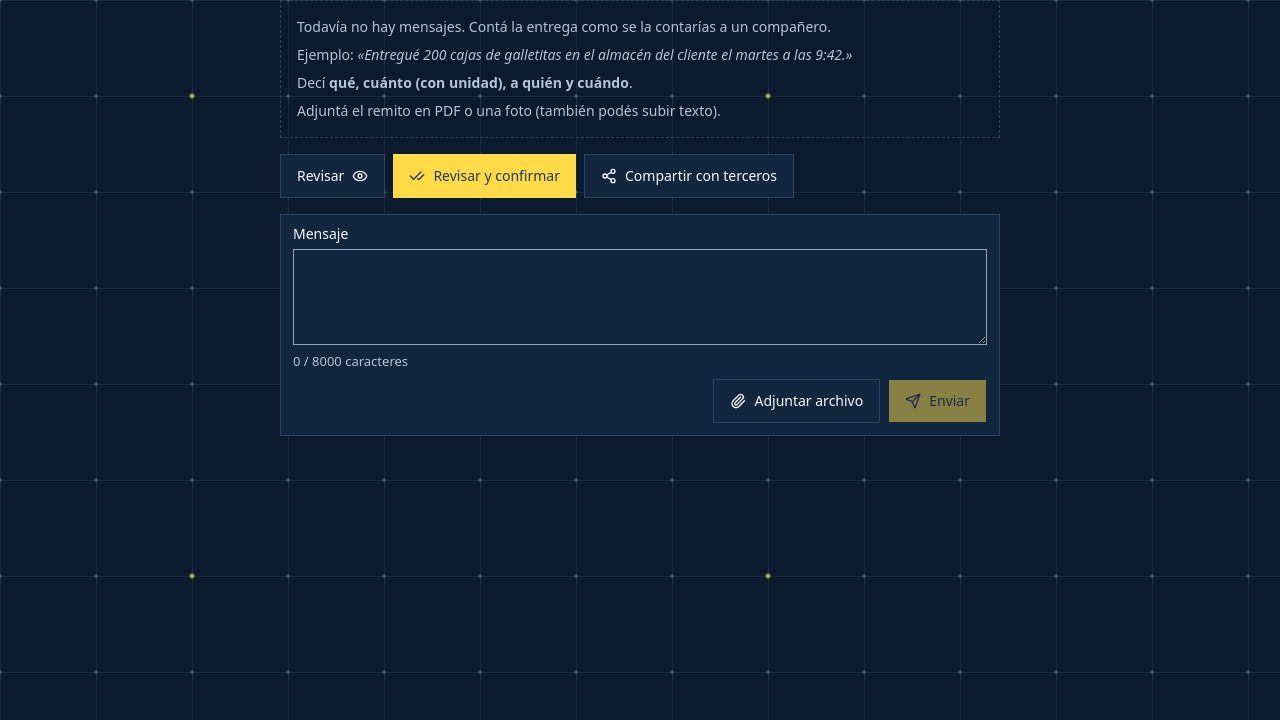
Scenario: ChatContainer (MVP-054; red simulada, no es integración real) › error de proveedor: aviso técnico y reintento con el mismo clientMessageId
Type "Entregué 3 cajas" into the text box labelled "Mensaje" at (640, 297), box [293, 249, 987, 345]
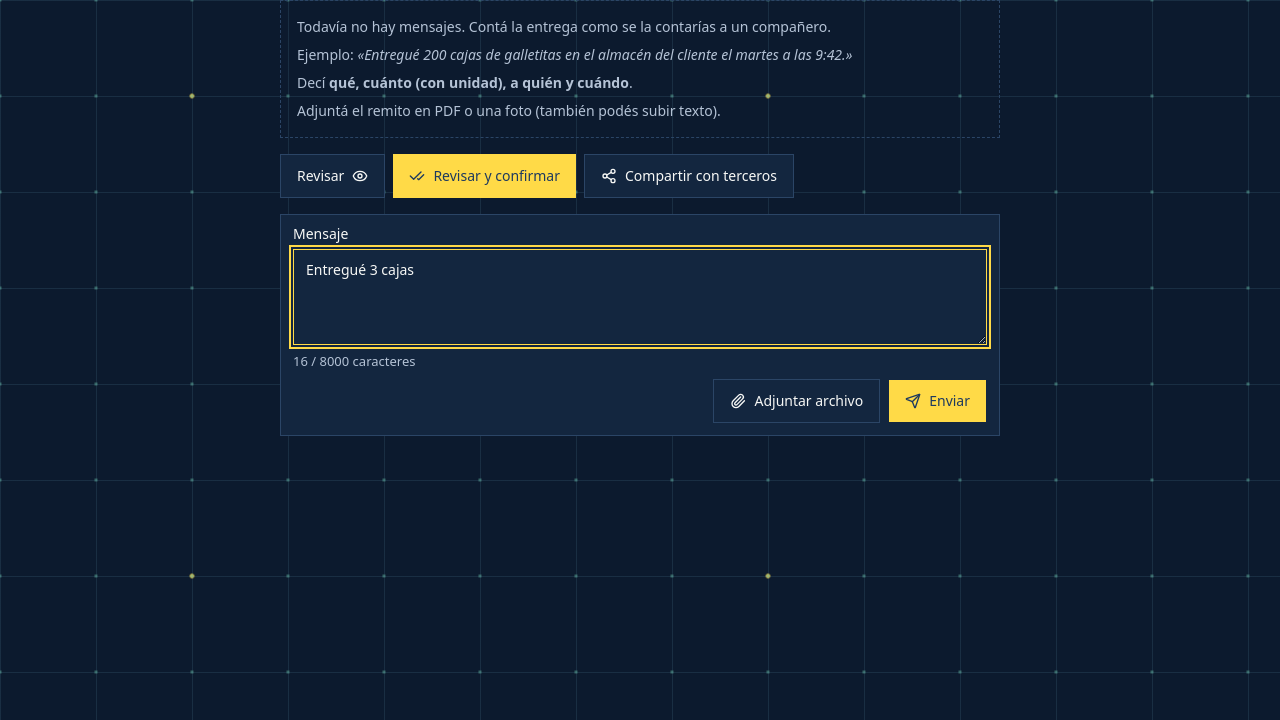
Click the button "Enviar" at (938, 401), box [888, 379, 987, 423]
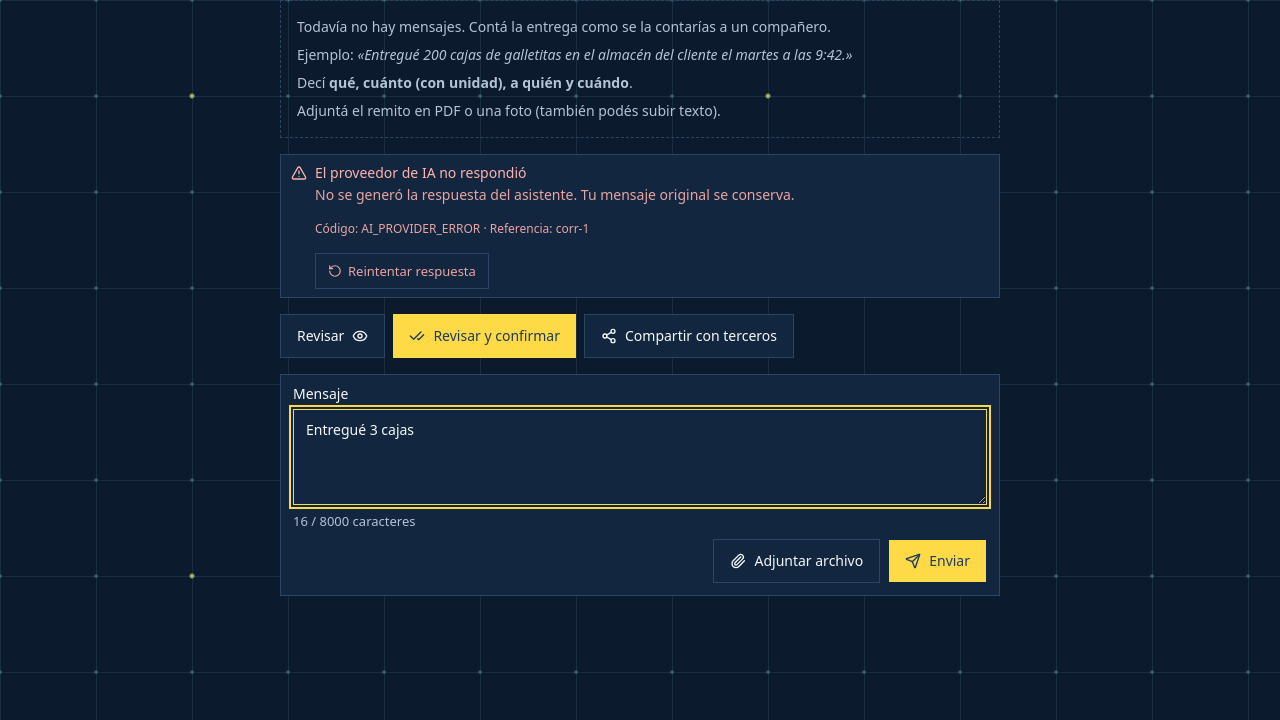
Click the button "Reintentar respuesta" at (402, 271), box [315, 253, 489, 289]
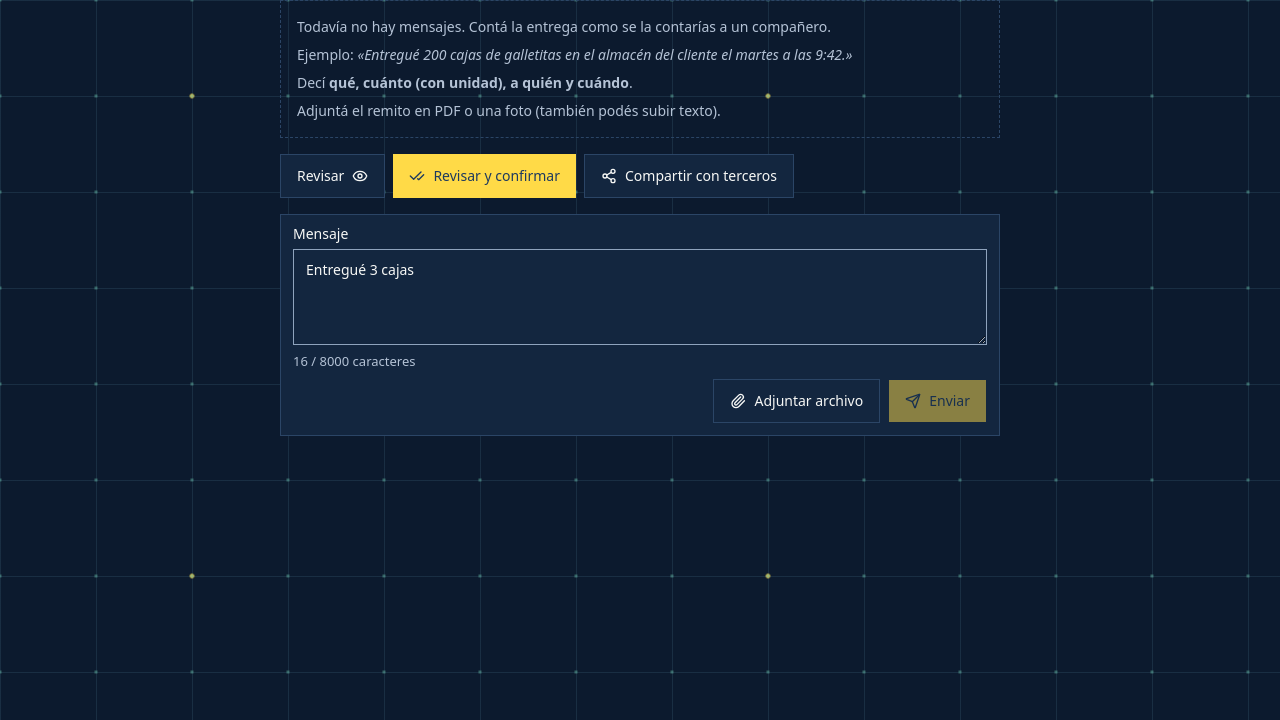
Expected: the message is gone
